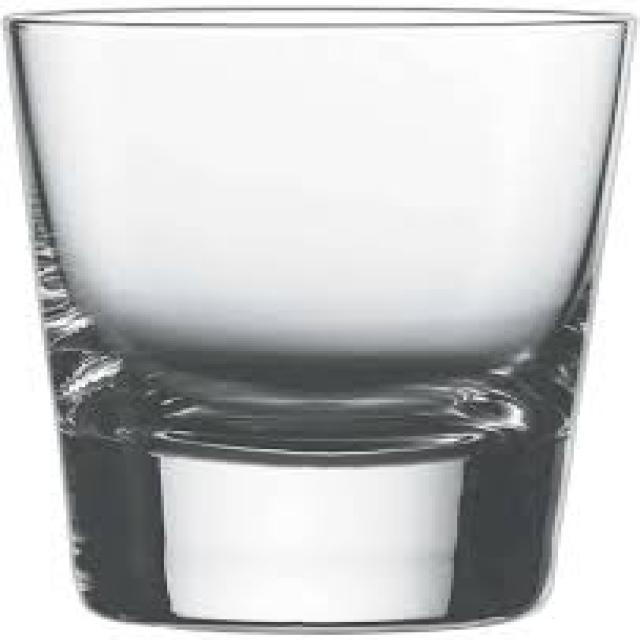glass: (9, 8, 627, 627)
